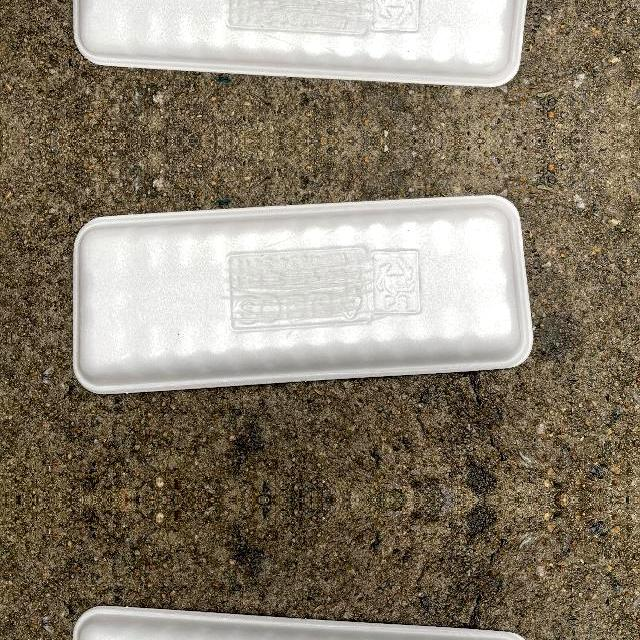Styrofoam: (72, 193, 534, 393), (73, 194, 534, 393), (71, 0, 534, 87), (73, 0, 527, 86)
